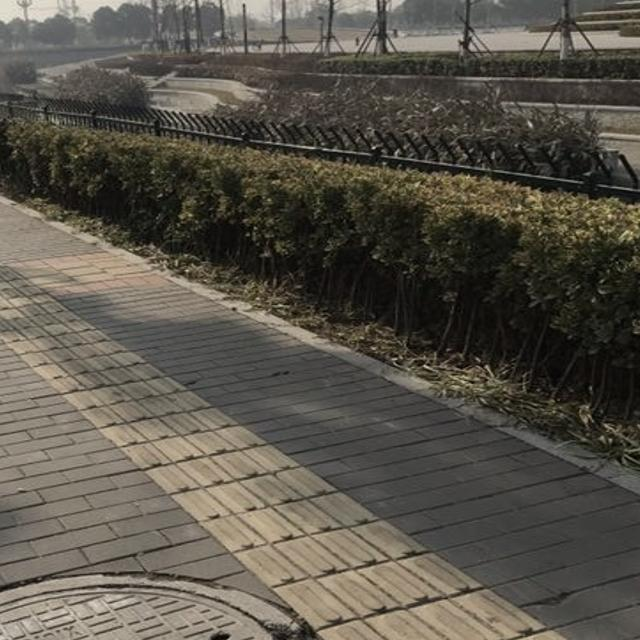circle: (0, 572, 336, 640)
